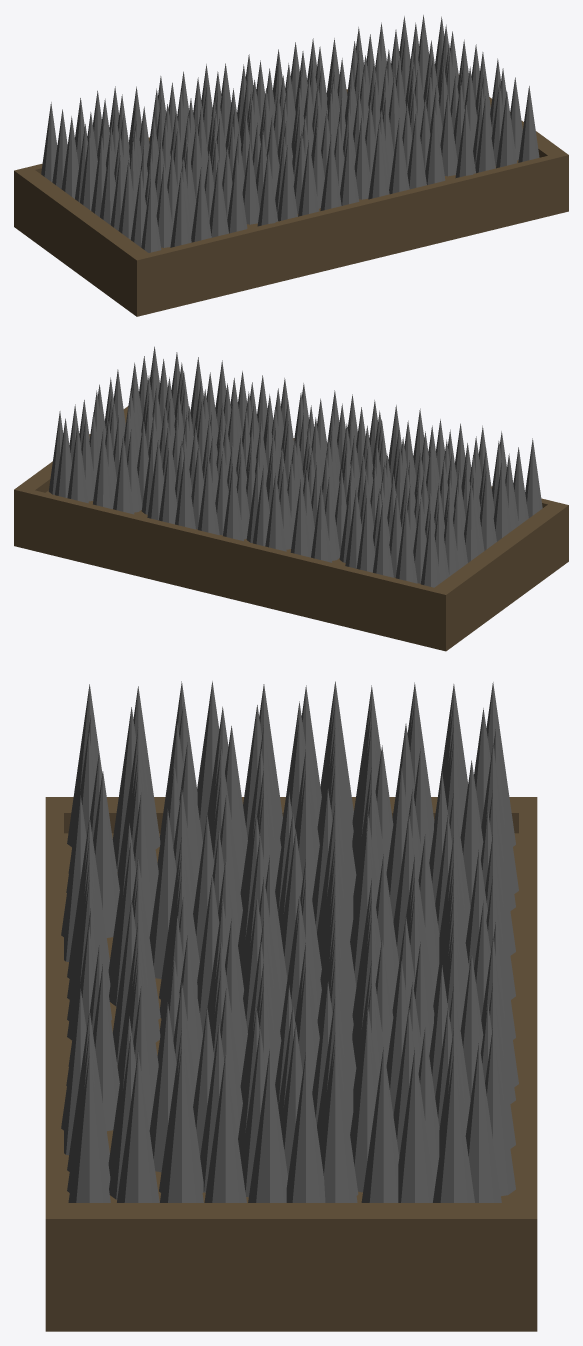
File: CJSpikes2.fbx
3 views of the same model, one above another, from view 1: azimuth 30°, elevation 25°; view 2: azimuth 150°, elevation 25°; view 3: azimuth 270°, elevation 25° (orthographic). The views are drawn at different scales.
Parts seen in each view (by area): view 1: group_pasted__pCone1; view 2: group_pasted__pCone1; view 3: group_pasted__pCone1.
Boxes of the visible parts, left/top/right/bottom form: group_pasted__pCone1: left=14, top=15, right=568, bottom=316; group_pasted__pCone1: left=14, top=346, right=568, bottom=651; group_pasted__pCone1: left=45, top=681, right=537, bottom=1331.
Bounding box in the file's own units: 1306 × 367 × 643.
